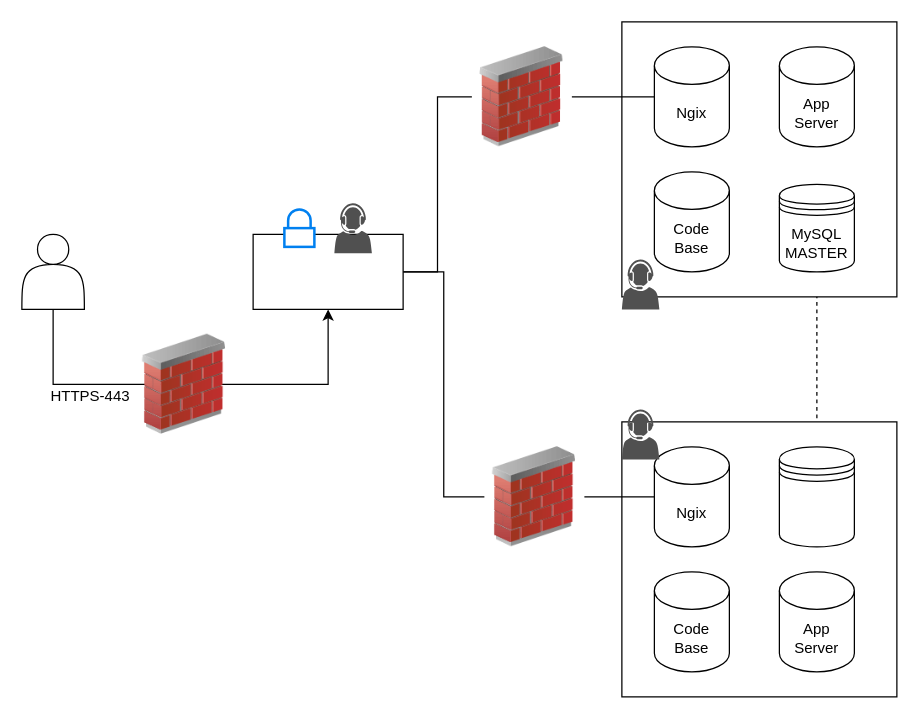
Image size: 919x719. Some labels were removed from this diagram. Here are the shapes that lost their labels. From the top down, the box of each, then its label:
(252, 233, 403, 309): Load Balancer
(778, 446, 854, 547): MySQL SLAVE
